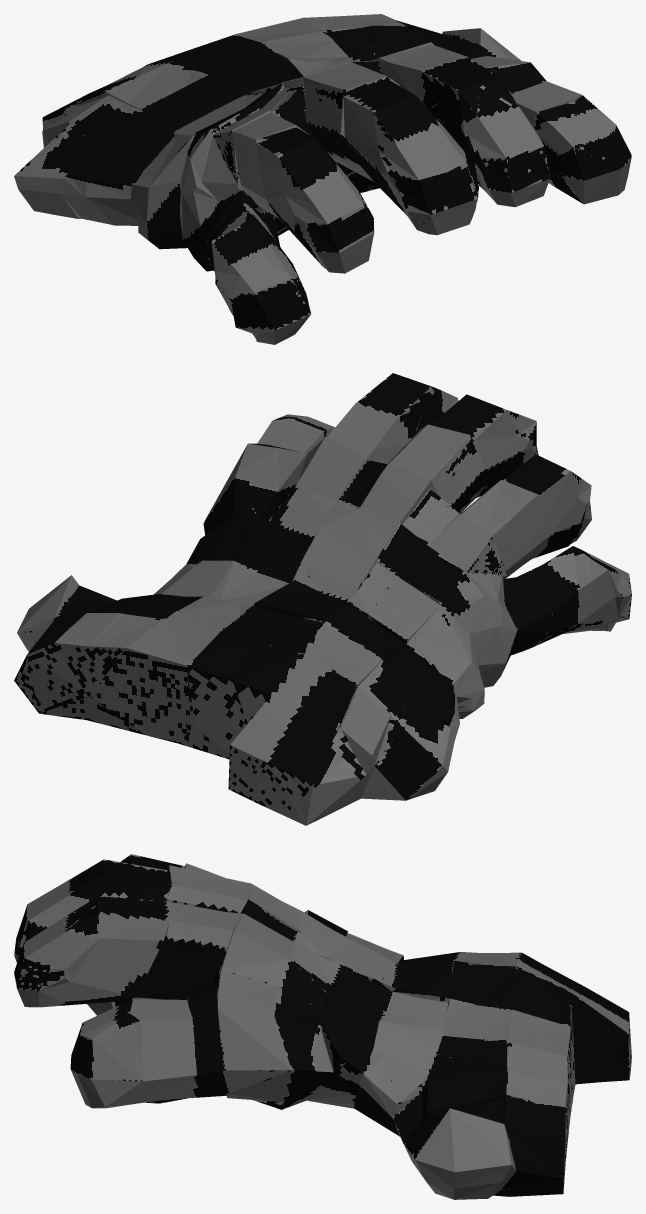
3 views of the same model, one above another, from view 1: azimuth 30°, elevation 25°; view 2: azimuth 150°, elevation 25°; view 3: azimuth 270°, elevation 25° (orthographic). The views are drawn at different scales.
Parts seen in each view (by area): view 1: OBJ027; view 2: OBJ027; view 3: OBJ027.
Boxes of the visible parts, x1,y1,x2,y2 form: OBJ027: [14, 14, 631, 344]; OBJ027: [14, 373, 631, 825]; OBJ027: [14, 854, 631, 1199].
Size of the model in its own units: 0.3346 by 0.1598 by 0.3856.
Materials: 1 (1 with a texture image).
